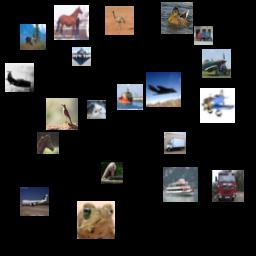airplane: (200, 88, 235, 123), (146, 72, 181, 107), (5, 63, 34, 92), (20, 187, 49, 216), (202, 49, 231, 78), (72, 47, 91, 66)
bird: (46, 98, 78, 130), (161, 2, 193, 34), (105, 6, 134, 35), (101, 162, 123, 184)
cat: (87, 100, 106, 119)
deer: (20, 24, 46, 50)
frog: (77, 201, 115, 239)
ship: (163, 167, 198, 202), (117, 84, 143, 110)
truck: (212, 170, 244, 202), (164, 132, 186, 154), (194, 26, 213, 45)
